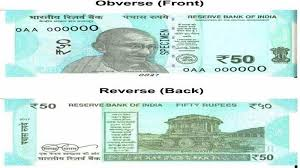fifty: (14, 20, 278, 66)
